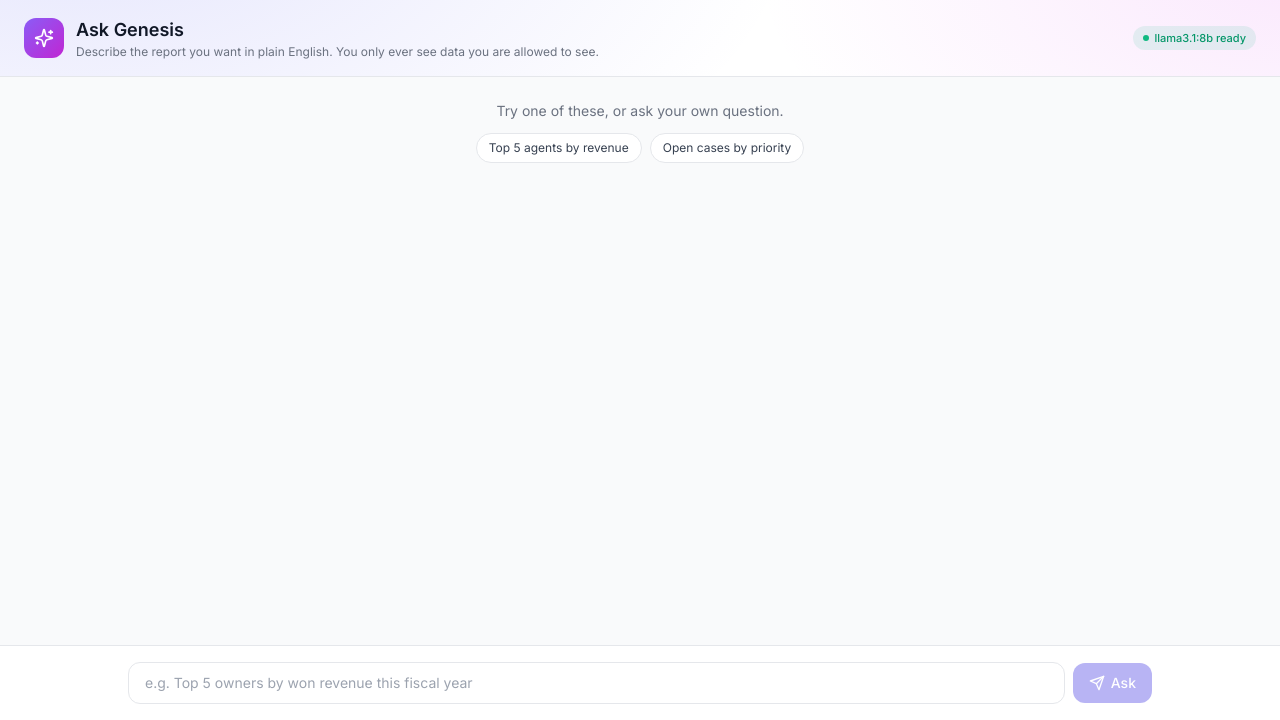
AskPanel › shows starter questions and sends one, then renders the answer as a report with a narrative
This screenshot has width=1280, height=720.
Click the button "Top 5 agents by revenue": (559, 148) [476, 133, 642, 163]
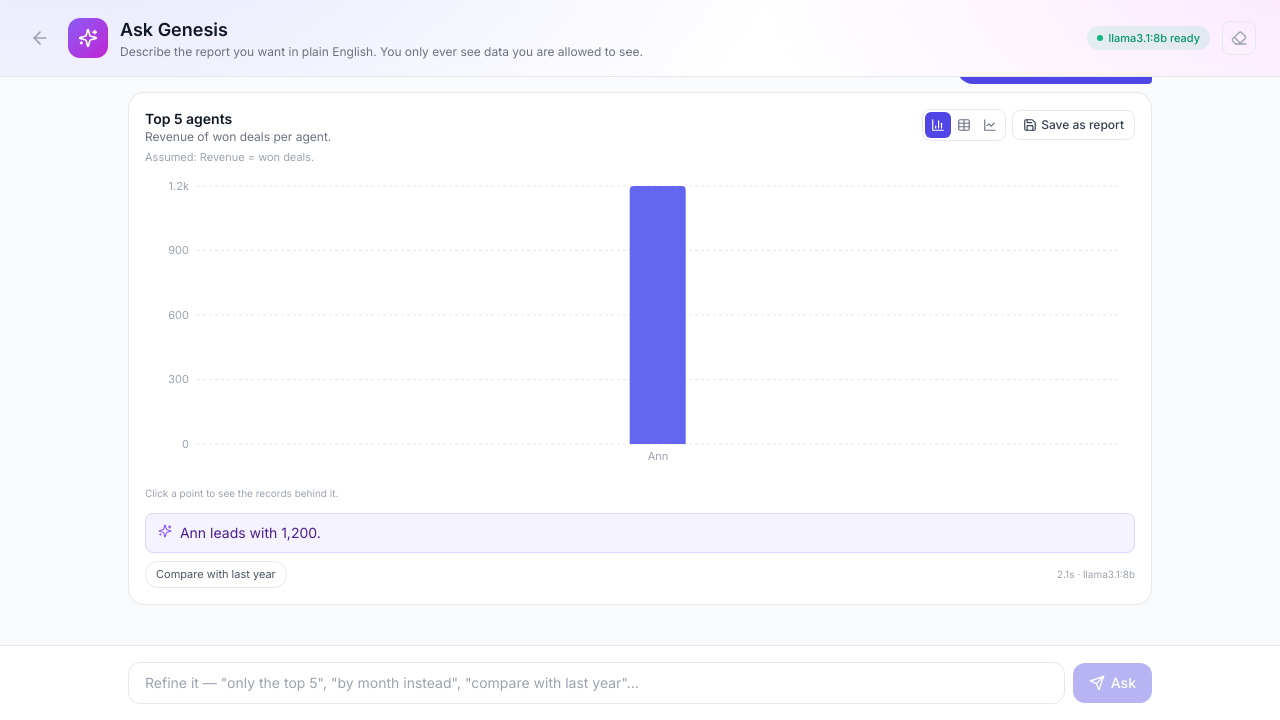
Now the text "Ann leads with 1,200." is shown, box [145, 512, 1135, 553]
Now the text "Assumed: Revenue = won deals." is shown, box [145, 149, 331, 166]
Now the button "Save as report" is shown, box [1012, 110, 1135, 140]
